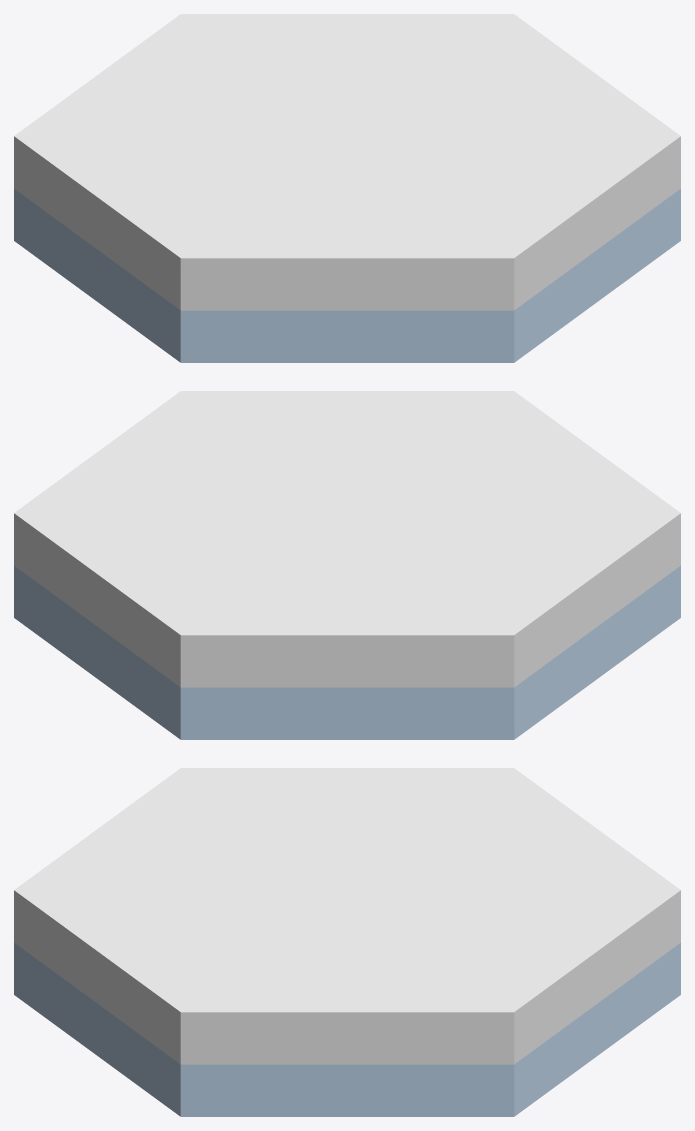
File: flat_iceland.glb
3 renders of one model, top to bottom at view 1: azimuth 30°, elevation 25°; view 2: azimuth 150°, elevation 25°; view 3: azimuth 270°, elevation 25°, orthographic.
Visible parts, largest first — view 1: grass; view 2: grass; view 3: grass.
Part boxes in pixels (box(x1,y1,x2,y2)): grass: box(14, 14, 680, 362); grass: box(14, 391, 680, 739); grass: box(14, 768, 680, 1116).
Size of the model in its own units: 1 by 0.2 by 1.15.
1 material, 1 textured.
